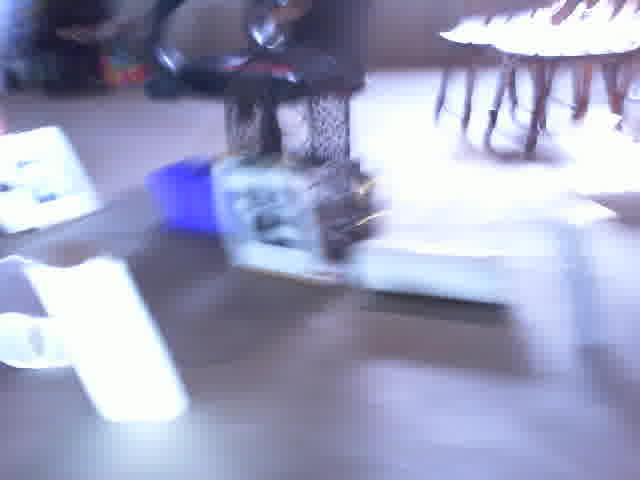coral: (31, 249, 200, 424), (345, 241, 512, 308), (0, 257, 74, 375)
